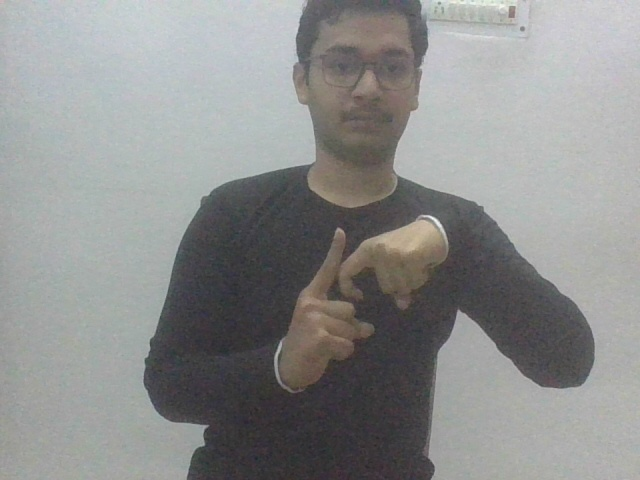K: (270, 212, 453, 396)
